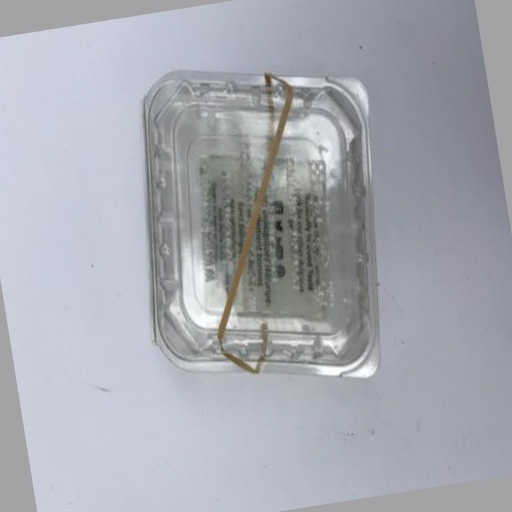Plastic_4: (141, 67, 381, 384)
